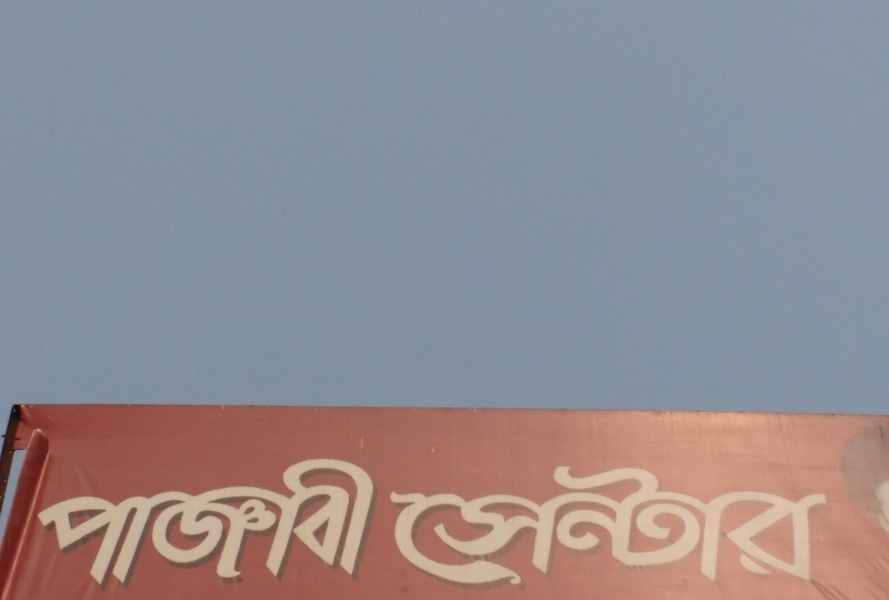text: (401, 458, 416, 591), (417, 458, 432, 591), (433, 458, 448, 591), (449, 458, 464, 591), (465, 458, 480, 591), (481, 458, 496, 591), (497, 458, 512, 591), (513, 458, 528, 591), (529, 458, 544, 591), (545, 458, 560, 591), (561, 458, 576, 591), (577, 458, 592, 591), (593, 458, 608, 591), (609, 458, 624, 591), (625, 458, 640, 591), (641, 458, 656, 591), (657, 458, 672, 591), (673, 458, 688, 591), (689, 458, 704, 591), (705, 458, 720, 591), (721, 458, 736, 591), (737, 458, 752, 591), (753, 458, 768, 591), (769, 458, 784, 591), (785, 458, 800, 591), (801, 458, 816, 591), (49, 453, 64, 585), (65, 453, 80, 585), (81, 453, 96, 585), (97, 453, 112, 585), (113, 453, 128, 585), (129, 453, 144, 585), (145, 453, 160, 585), (161, 453, 176, 585), (177, 453, 192, 585), (193, 453, 208, 585), (209, 453, 224, 585), (225, 453, 240, 585), (241, 453, 256, 585), (257, 453, 272, 585), (273, 453, 288, 585), (289, 453, 304, 585), (305, 453, 320, 585), (321, 453, 336, 585), (337, 453, 352, 585), (353, 453, 368, 585), (386, 458, 400, 591), (817, 458, 831, 591), (34, 453, 48, 585), (369, 453, 376, 585)
